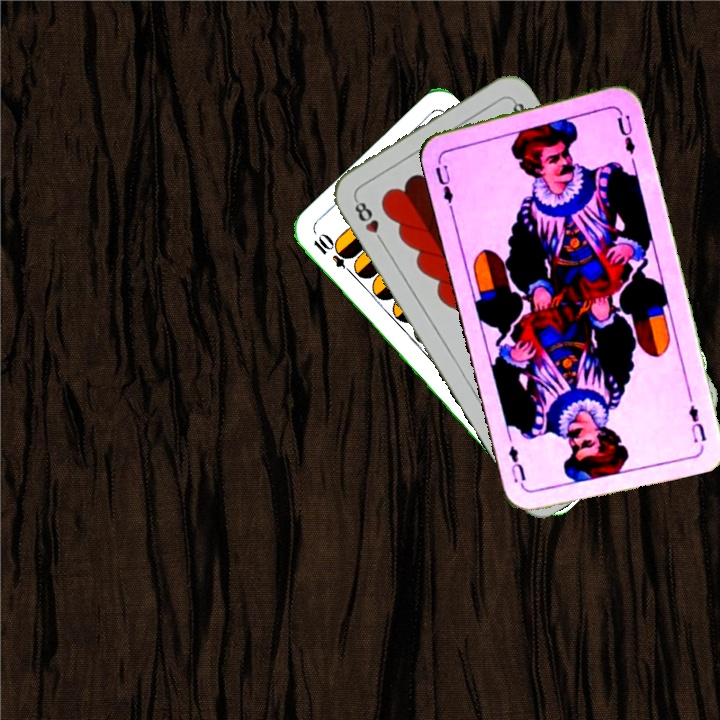E10: (309, 231, 359, 279)
EU: (431, 161, 456, 210), (684, 401, 709, 446)
H8: (350, 194, 388, 248)
